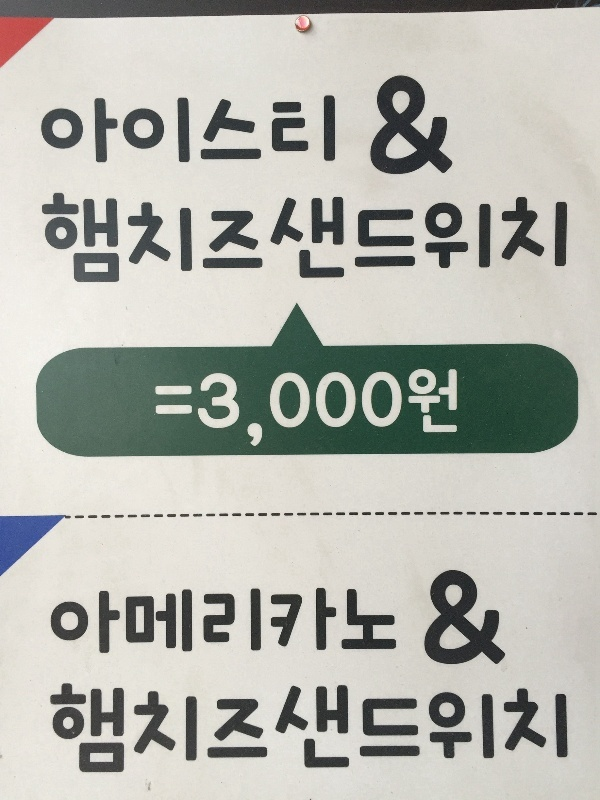text: (385, 67, 400, 182), (401, 67, 416, 182), (417, 67, 432, 182), (433, 67, 448, 182), (433, 566, 448, 673), (449, 566, 464, 673), (465, 566, 480, 673), (481, 566, 496, 673), (497, 566, 512, 673), (49, 681, 64, 787), (65, 681, 80, 787), (81, 681, 96, 787), (97, 681, 112, 787), (113, 681, 128, 787), (129, 681, 144, 787), (145, 681, 160, 787), (161, 681, 176, 787), (177, 681, 192, 787), (193, 681, 208, 787), (209, 681, 224, 787), (225, 681, 240, 787), (241, 681, 256, 787), (49, 189, 64, 294), (65, 189, 80, 294), (81, 189, 96, 294), (97, 189, 112, 294), (113, 189, 128, 294), (129, 189, 144, 294), (145, 189, 160, 294), (161, 189, 176, 294), (177, 189, 192, 294), (193, 189, 208, 294), (209, 189, 224, 294), (225, 189, 240, 294), (241, 189, 256, 294), (449, 67, 462, 182), (289, 191, 304, 289), (305, 191, 320, 289), (321, 191, 336, 289), (337, 191, 352, 289), (353, 191, 368, 289), (369, 191, 384, 289), (385, 191, 400, 289), (401, 191, 416, 289), (417, 191, 432, 289), (433, 191, 448, 289), (449, 191, 464, 289), (465, 191, 480, 289), (481, 191, 496, 289), (497, 191, 512, 289), (513, 191, 528, 289), (529, 191, 544, 289), (545, 191, 560, 289), (305, 680, 320, 776), (321, 680, 336, 776), (337, 680, 352, 776), (353, 680, 368, 776), (369, 680, 384, 776), (385, 680, 400, 776), (401, 680, 416, 776), (417, 680, 432, 776), (433, 680, 448, 776), (449, 680, 464, 776), (465, 680, 480, 776), (481, 680, 496, 776), (497, 680, 512, 776), (513, 680, 528, 776), (529, 680, 544, 776), (545, 680, 560, 776), (161, 364, 176, 459), (177, 364, 192, 459), (193, 364, 208, 459), (209, 364, 224, 459), (225, 364, 240, 459), (241, 364, 256, 459), (257, 364, 272, 459), (273, 364, 288, 459), (289, 364, 304, 459), (305, 364, 320, 459), (321, 364, 336, 459), (337, 364, 352, 459), (353, 364, 368, 459), (369, 364, 384, 459), (385, 364, 400, 459), (401, 364, 416, 459), (417, 364, 432, 459), (433, 364, 448, 459), (257, 681, 270, 787), (290, 680, 304, 776), (65, 581, 80, 661), (81, 581, 96, 661), (97, 581, 112, 661), (113, 581, 128, 661), (129, 581, 144, 661), (145, 581, 160, 661), (161, 581, 176, 661), (177, 581, 192, 661), (193, 581, 208, 661), (209, 581, 224, 661), (225, 581, 240, 661), (241, 581, 256, 661), (257, 581, 272, 661), (273, 581, 288, 661), (289, 581, 304, 661), (305, 581, 320, 661), (321, 581, 336, 661), (337, 581, 352, 661), (353, 581, 368, 661), (369, 581, 384, 661), (321, 93, 337, 166), (50, 581, 64, 661), (49, 93, 64, 166), (65, 93, 80, 166), (81, 93, 96, 166), (97, 93, 112, 166), (113, 93, 128, 166), (129, 93, 144, 166), (145, 93, 160, 166), (161, 93, 176, 166), (177, 93, 192, 166), (193, 93, 208, 166), (209, 93, 224, 166), (225, 93, 240, 166), (241, 93, 256, 166), (257, 93, 272, 166), (273, 93, 288, 166), (289, 93, 304, 166), (305, 93, 320, 166), (38, 189, 48, 294), (257, 189, 267, 294), (449, 364, 460, 459), (385, 581, 398, 661), (561, 680, 571, 776), (377, 67, 384, 182), (37, 93, 48, 166), (561, 191, 569, 289), (153, 364, 160, 459), (426, 566, 432, 673), (284, 191, 288, 289)
